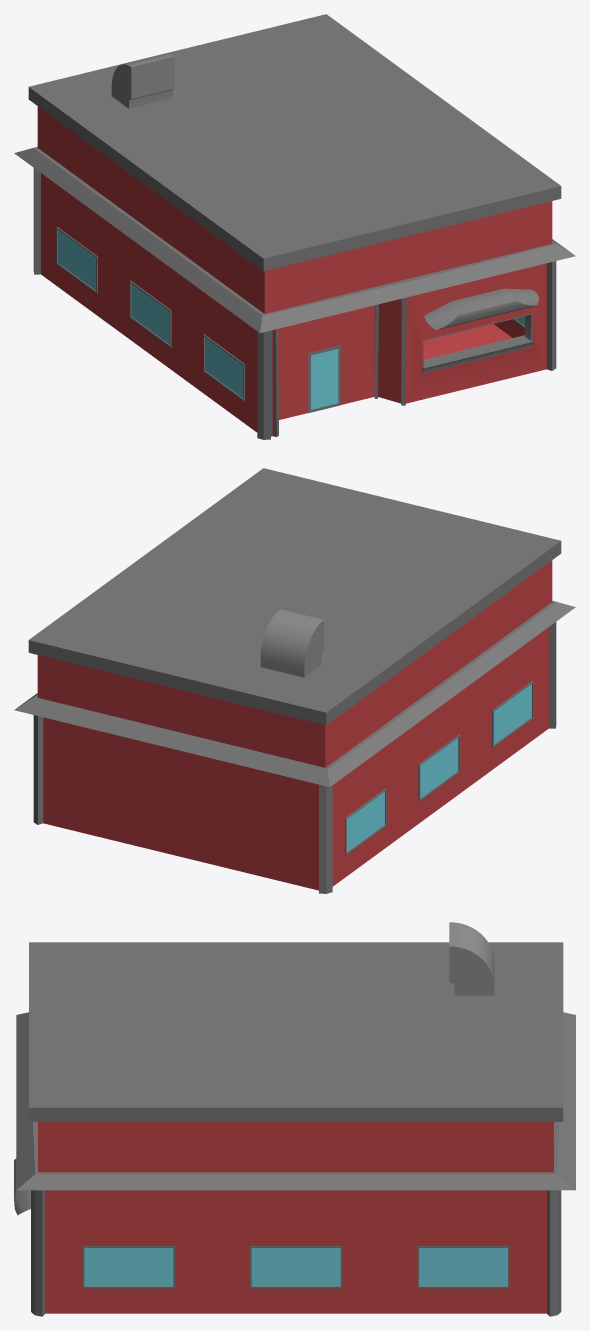
Rendered from Pizza_Parlour.fbx.
3 views of the same model, one above another, from view 1: azimuth 30°, elevation 25°; view 2: azimuth 150°, elevation 25°; view 3: azimuth 270°, elevation 25° (orthographic). The views are drawn at different scales.
Parts seen in each view (by area): view 1: Parlour; view 2: Parlour; view 3: Parlour.
Boxes of the visible parts, x1,y1,x2,y2 form: Parlour: (14, 14, 575, 439); Parlour: (14, 468, 575, 893); Parlour: (14, 922, 575, 1316).
Bounding box in the file's own units: 1538 × 1056 × 2083.
